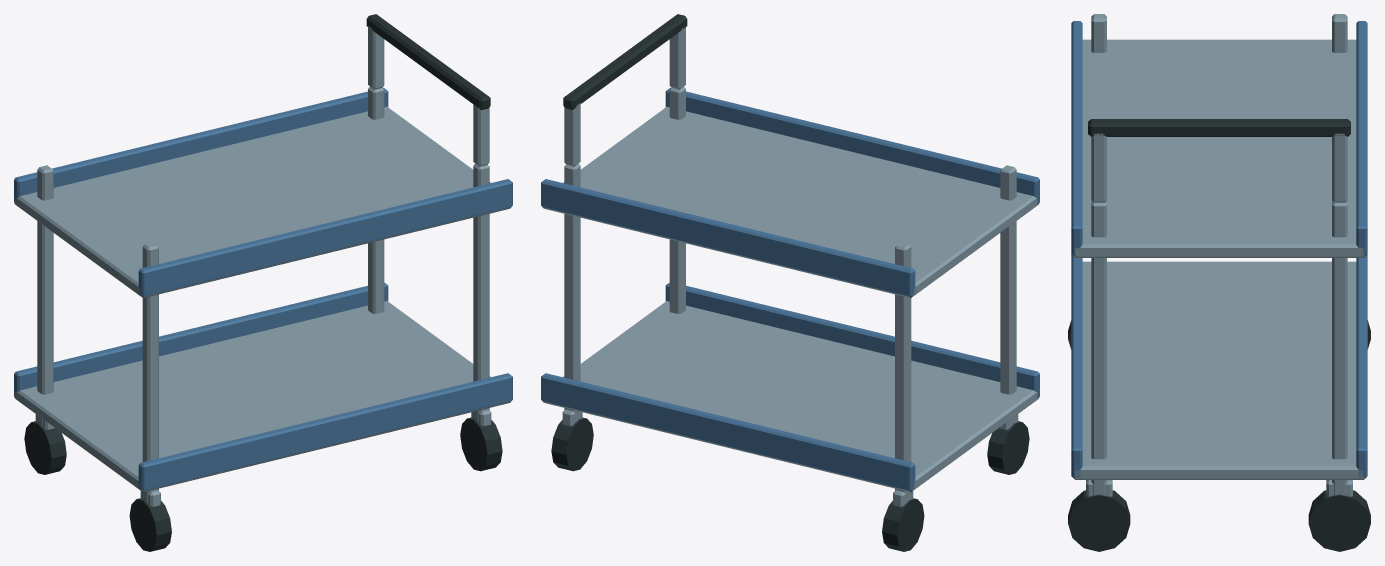
File: supply_service_trolley.glb
3 views of the same model, side by side, from view 1: azimuth 30°, elevation 25°; view 2: azimuth 150°, elevation 25°; view 3: azimuth 270°, elevation 25° (orthographic). The views are drawn at different scales.
Visible parts, largest first — view 1: tray_floor (×2), tray_rim (×4), upright (×4), caster_wheel (×3), push_handle_bar, push_handle_upright (×2); view 2: tray_floor (×2), tray_rim (×4), upright (×4), caster_wheel (×3), push_handle_bar, push_handle_upright (×2); view 3: tray_floor (×2), tray_rim (×4), upright (×4), caster_wheel (×2), push_handle_bar, push_handle_upright (×2).
Part boxes in pixels (<box>): tray_floor (×2): <box>14,106,511,492</box>; tray_rim (×4): <box>14,87,512,490</box>; upright (×4): <box>37,86,489,503</box>; caster_wheel (×3): <box>24,417,502,551</box>; push_handle_bar: <box>366,14,490,109</box>; push_handle_upright (×2): <box>368,26,489,166</box>; tray_floor (×2): <box>542,106,1039,492</box>; tray_rim (×4): <box>541,87,1039,490</box>; upright (×4): <box>564,86,1016,503</box>; caster_wheel (×3): <box>551,417,1029,551</box>; push_handle_bar: <box>563,14,687,109</box>; push_handle_upright (×2): <box>564,26,685,166</box>; tray_floor (×2): <box>1073,39,1365,479</box>; tray_rim (×4): <box>1071,21,1367,477</box>; upright (×4): <box>1091,14,1347,495</box>; caster_wheel (×2): <box>1068,490,1370,551</box>; push_handle_bar: <box>1088,119,1350,136</box>; push_handle_upright (×2): <box>1091,133,1347,202</box>.
Size of the model in its own units: 1.1 by 1.06 by 0.68.
